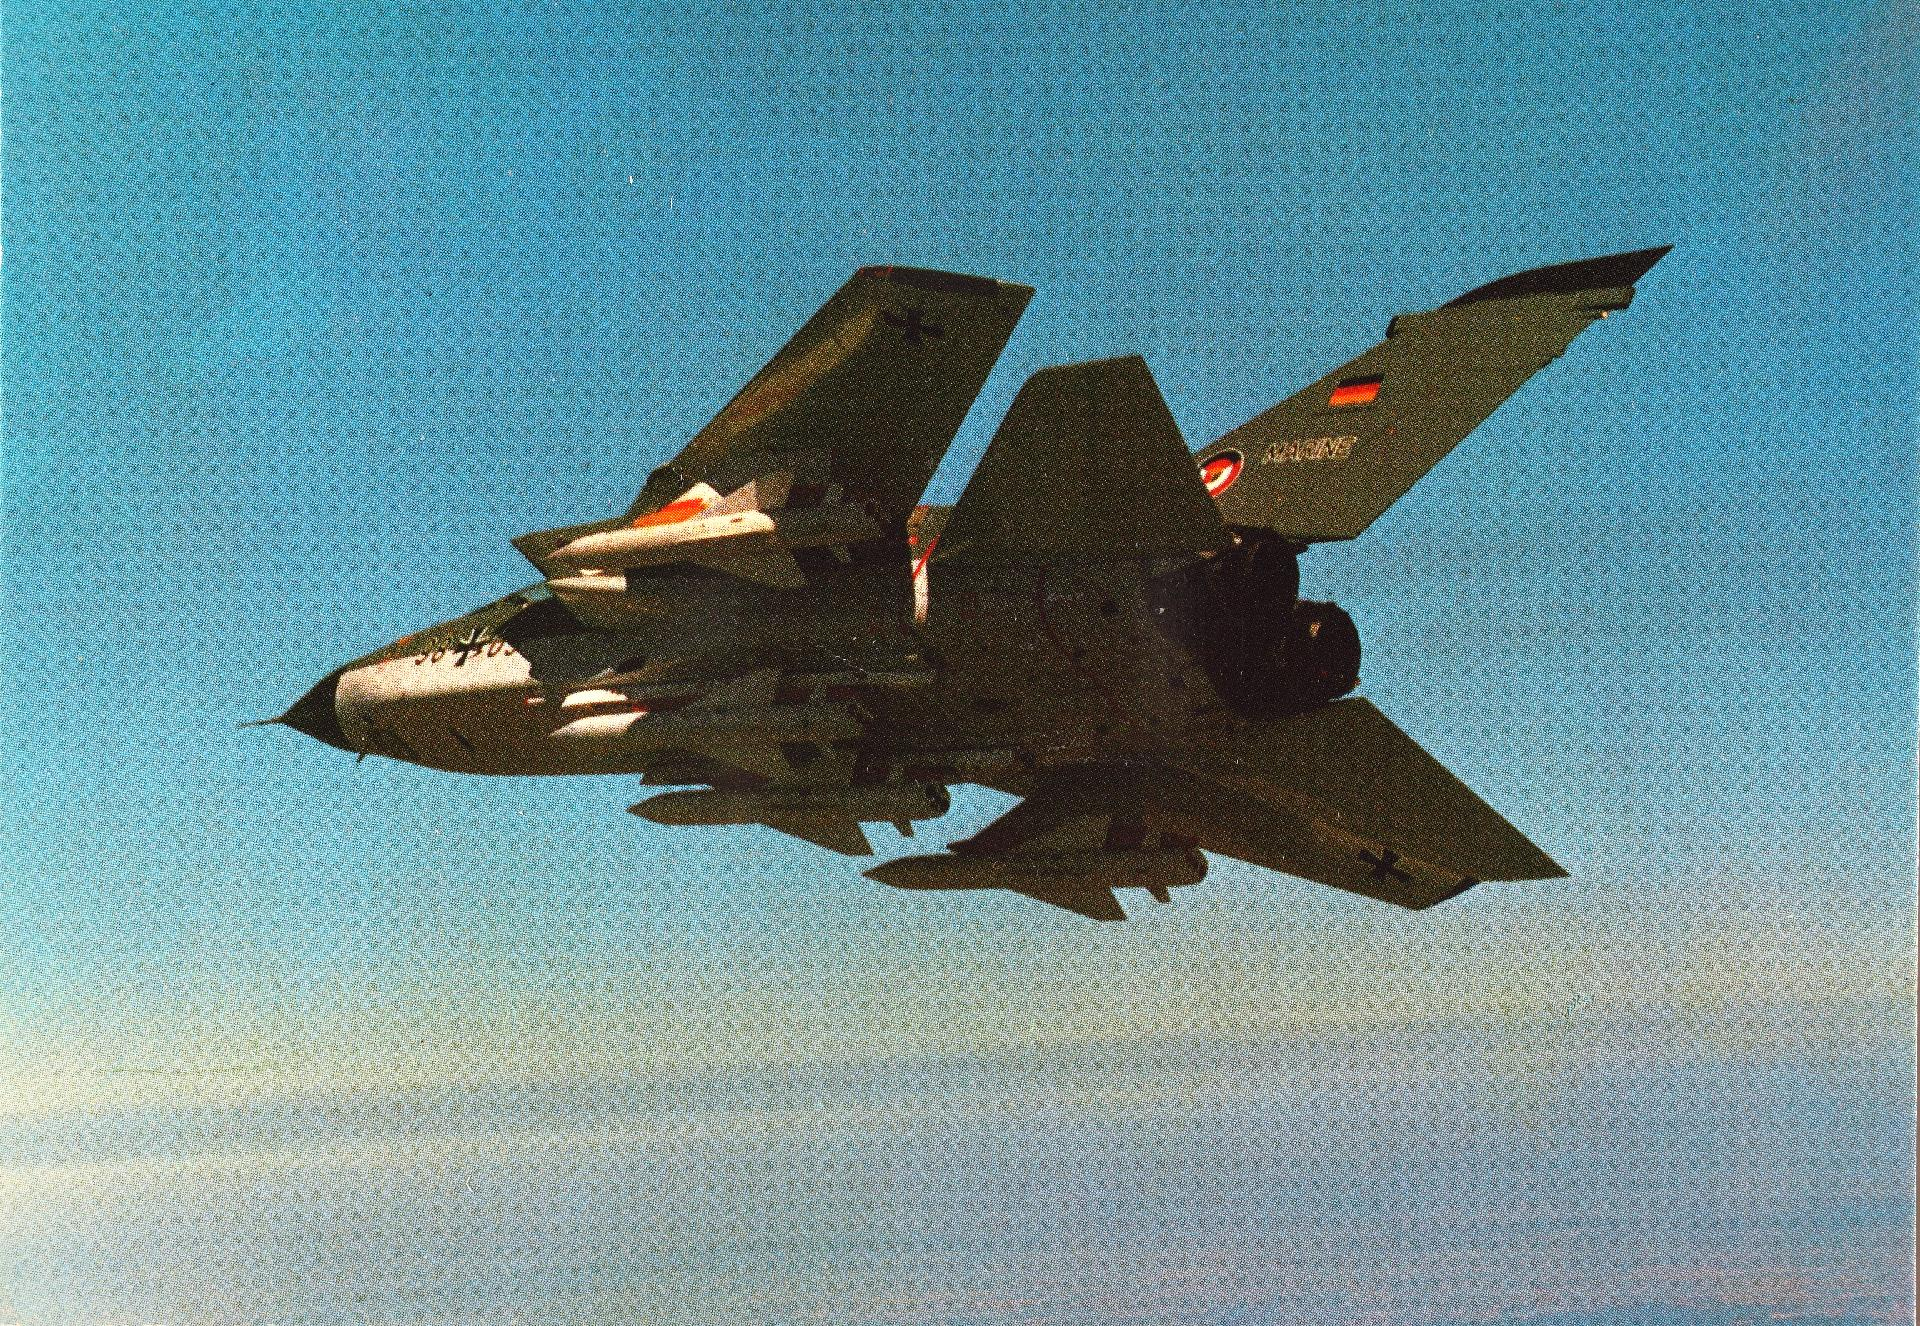Tornado: (233, 242, 1676, 922)
